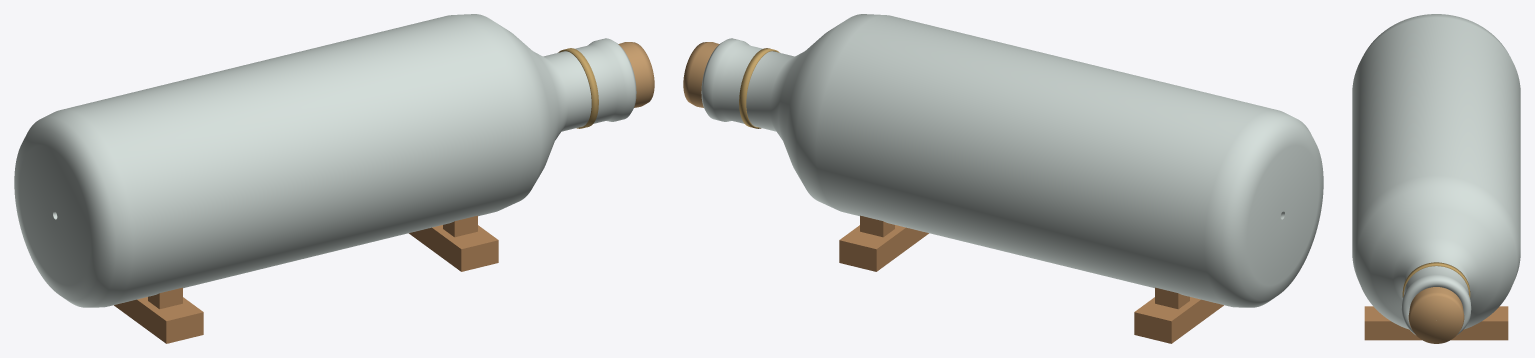
File: sailboat-bottle-v3.glb
3 renders of one model, left to right at view 1: azimuth 30°, elevation 25°; view 2: azimuth 150°, elevation 25°; view 3: azimuth 270°, elevation 25°, orthographic. The views are drawn at different scales.
Visible parts, largest first — view 1: Bottle | thick transparent glass, Cradle | timber foot.001, Cradle | timber foot, Bottle | cork stopper, Bottle | neck brass collar, Cradle | support, Cradle | support.002; view 2: Bottle | thick transparent glass, Cradle | timber foot.001, Cradle | timber foot, Bottle | cork stopper, Bottle | neck brass collar, Cradle | support.001, Cradle | support.003; view 3: Bottle | thick transparent glass, Bottle | cork stopper, Cradle | timber foot.001, Bottle | neck brass collar.
Part boxes in pixels (box(x1,y1,x2,y2)): Bottle | thick transparent glass: box(14, 14, 636, 307); Cradle | timber foot.001: box(409, 225, 498, 271); Cradle | timber foot: box(114, 297, 203, 343); Bottle | cork stopper: box(618, 42, 654, 107); Bottle | neck brass collar: box(558, 48, 598, 128); Cradle | support: box(148, 287, 182, 309); Cradle | support.002: box(443, 215, 477, 237); Bottle | thick transparent glass: box(701, 14, 1323, 307); Cradle | timber foot.001: box(839, 225, 928, 271); Cradle | timber foot: box(1134, 297, 1223, 343); Bottle | cork stopper: box(683, 42, 719, 107); Bottle | neck brass collar: box(739, 48, 779, 128); Cradle | support.001: box(1155, 287, 1189, 309); Cradle | support.003: box(860, 215, 894, 237); Bottle | thick transparent glass: box(1352, 14, 1520, 334); Bottle | cork stopper: box(1408, 287, 1464, 343); Cradle | timber foot.001: box(1364, 306, 1508, 340); Bottle | neck brass collar: box(1402, 262, 1470, 297).
Size of the model in its own units: 1.88 by 0.632 by 0.564.
